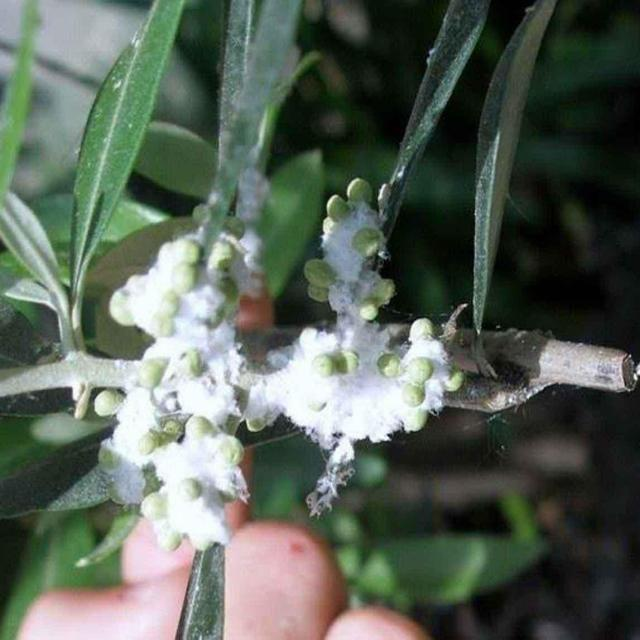Psyllid: (266, 178, 461, 516), (99, 225, 258, 559)
